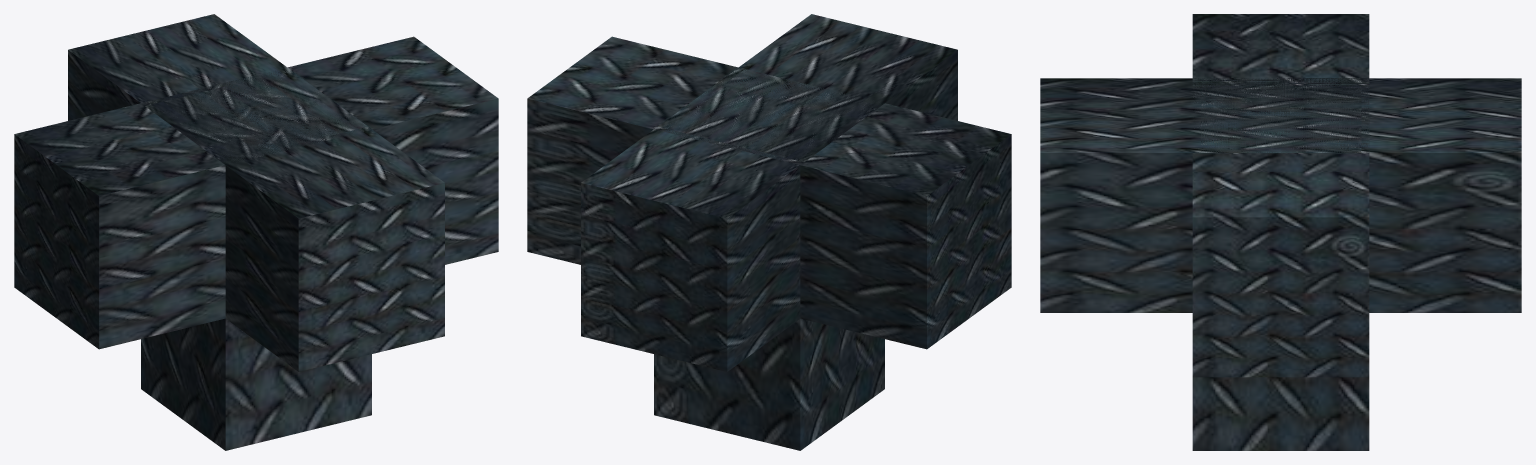
The model's file is _5entrees.glb.
3 renders of one model, left to right at view 1: azimuth 30°, elevation 25°; view 2: azimuth 150°, elevation 25°; view 3: azimuth 270°, elevation 25°, orthographic. The views are drawn at different scales.
Parts seen in each view (by area): view 1: Cube.017, Cube.025, Cube.056, Cube.011, Cube.136; view 2: Cube.136, Cube.025, Cube.017, Cube.056, Cube.011; view 3: Cube.017, Cube.136, Cube.056, Cube.011, Cube.025.
Part boxes in pixels (x1,y1,x2,y2): Cube.017: (145,75,444,371); Cube.025: (14,100,287,349); Cube.056: (148,36,498,264); Cube.011: (141,318,371,450); Cube.136: (68,14,367,160); Cube.136: (581,78,879,371); Cube.025: (663,69,1011,349); Cube.017: (658,14,957,162); Cube.056: (527,36,815,264); Cube.011: (654,318,884,450); Cube.017: (1040,78,1361,312); Cube.136: (1200,78,1521,312); Cube.056: (1192,81,1369,377); Cube.011: (1192,377,1369,450); Cube.025: (1192,14,1369,120).
Size of the model in its own units: 1.2 by 0.82 by 1.2.
1 material, 1 textured.
